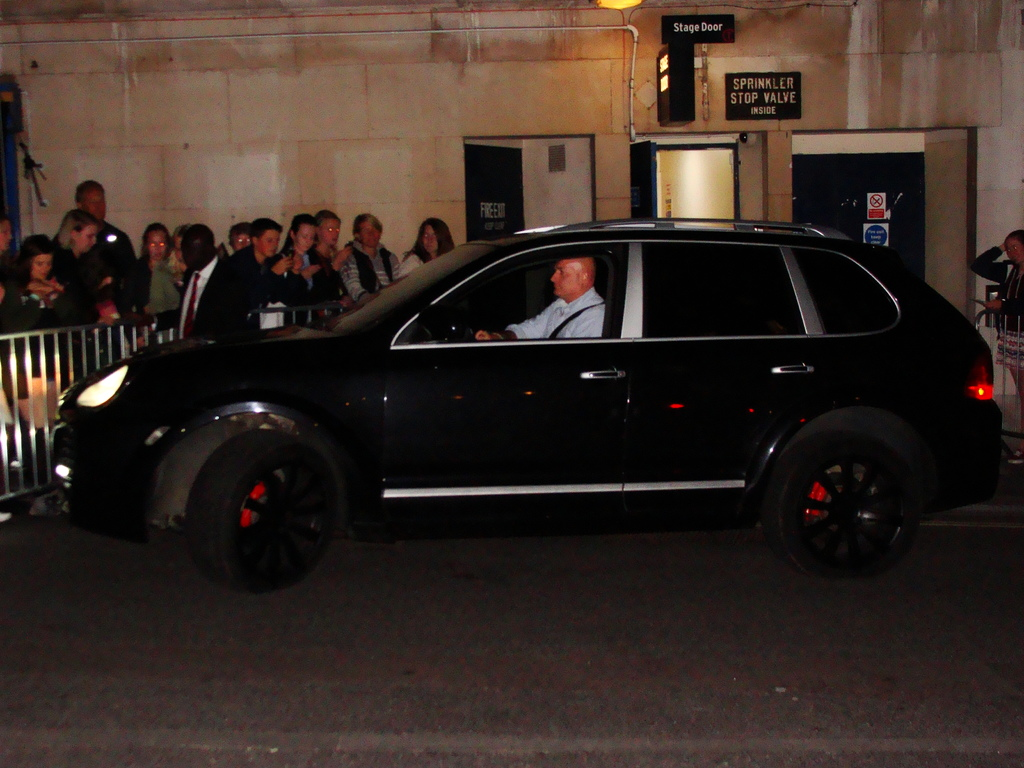Person: (0, 180, 1024, 522)
